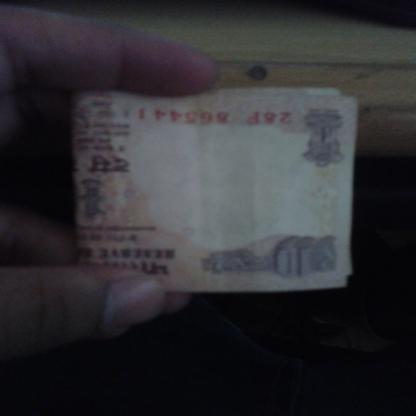Old10Front: (73, 87, 359, 293)
